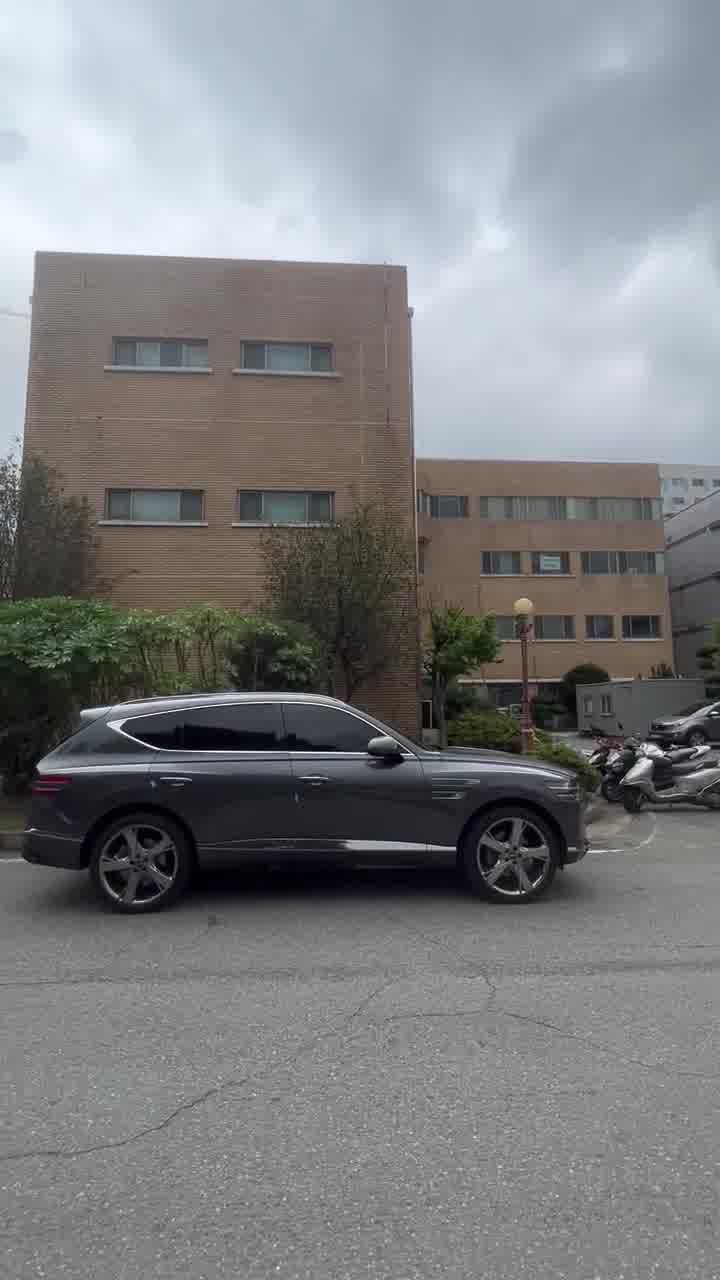low: (40, 250, 688, 660)
